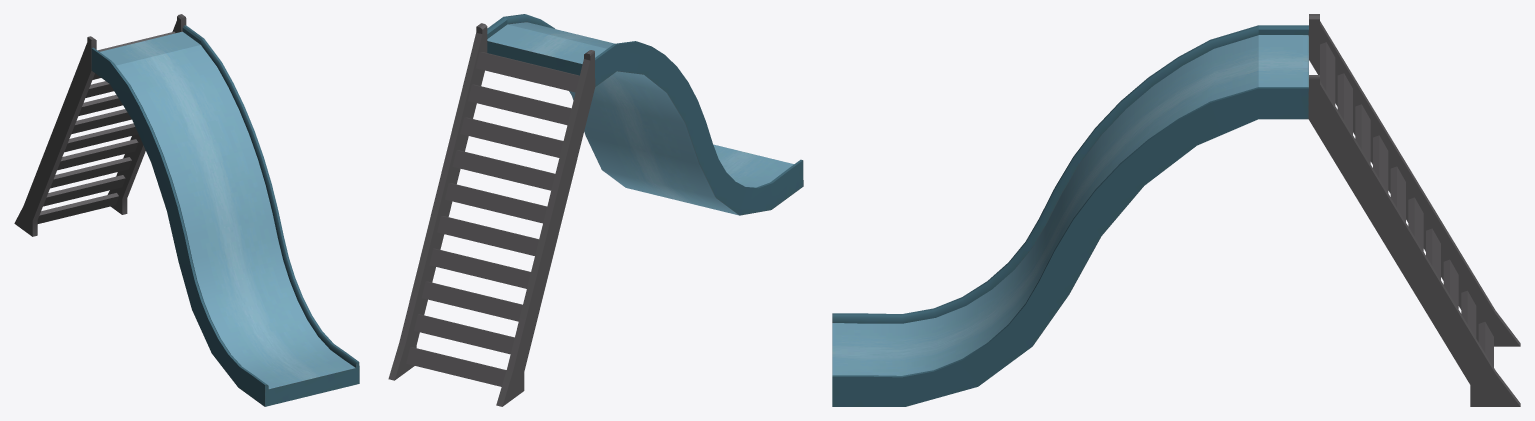
File: Slide.obj
The picture shows the model from 3 angles, left to right: view 1: azimuth 30°, elevation 25°; view 2: azimuth 150°, elevation 25°; view 3: azimuth 270°, elevation 25°; orthographic projection. The views are drawn at different scales.
Parts seen in each view (by area): view 1: Slide; view 2: Slide; view 3: Slide.
Boxes of the visible parts, x1,y1,x2,y2 form: Slide: (14,14,359,406); Slide: (388,14,803,406); Slide: (832,14,1520,406).
Bounding box in the file's own units: 5.14 × 12.43 × 23.52.
1 material, 1 textured.
